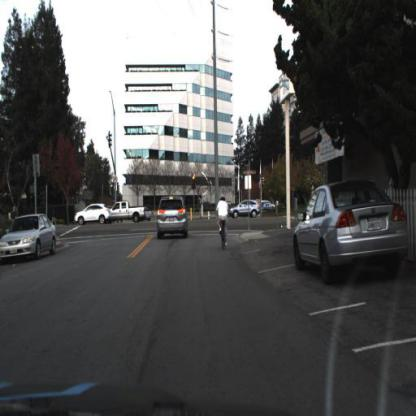biker: (215, 191, 233, 252)
car: (289, 176, 410, 290), (1, 209, 60, 270), (155, 192, 190, 242), (109, 195, 148, 229), (72, 201, 118, 225), (230, 196, 264, 221)
trafficLight-Red: (191, 171, 199, 194), (192, 175, 198, 189), (111, 184, 115, 194)
